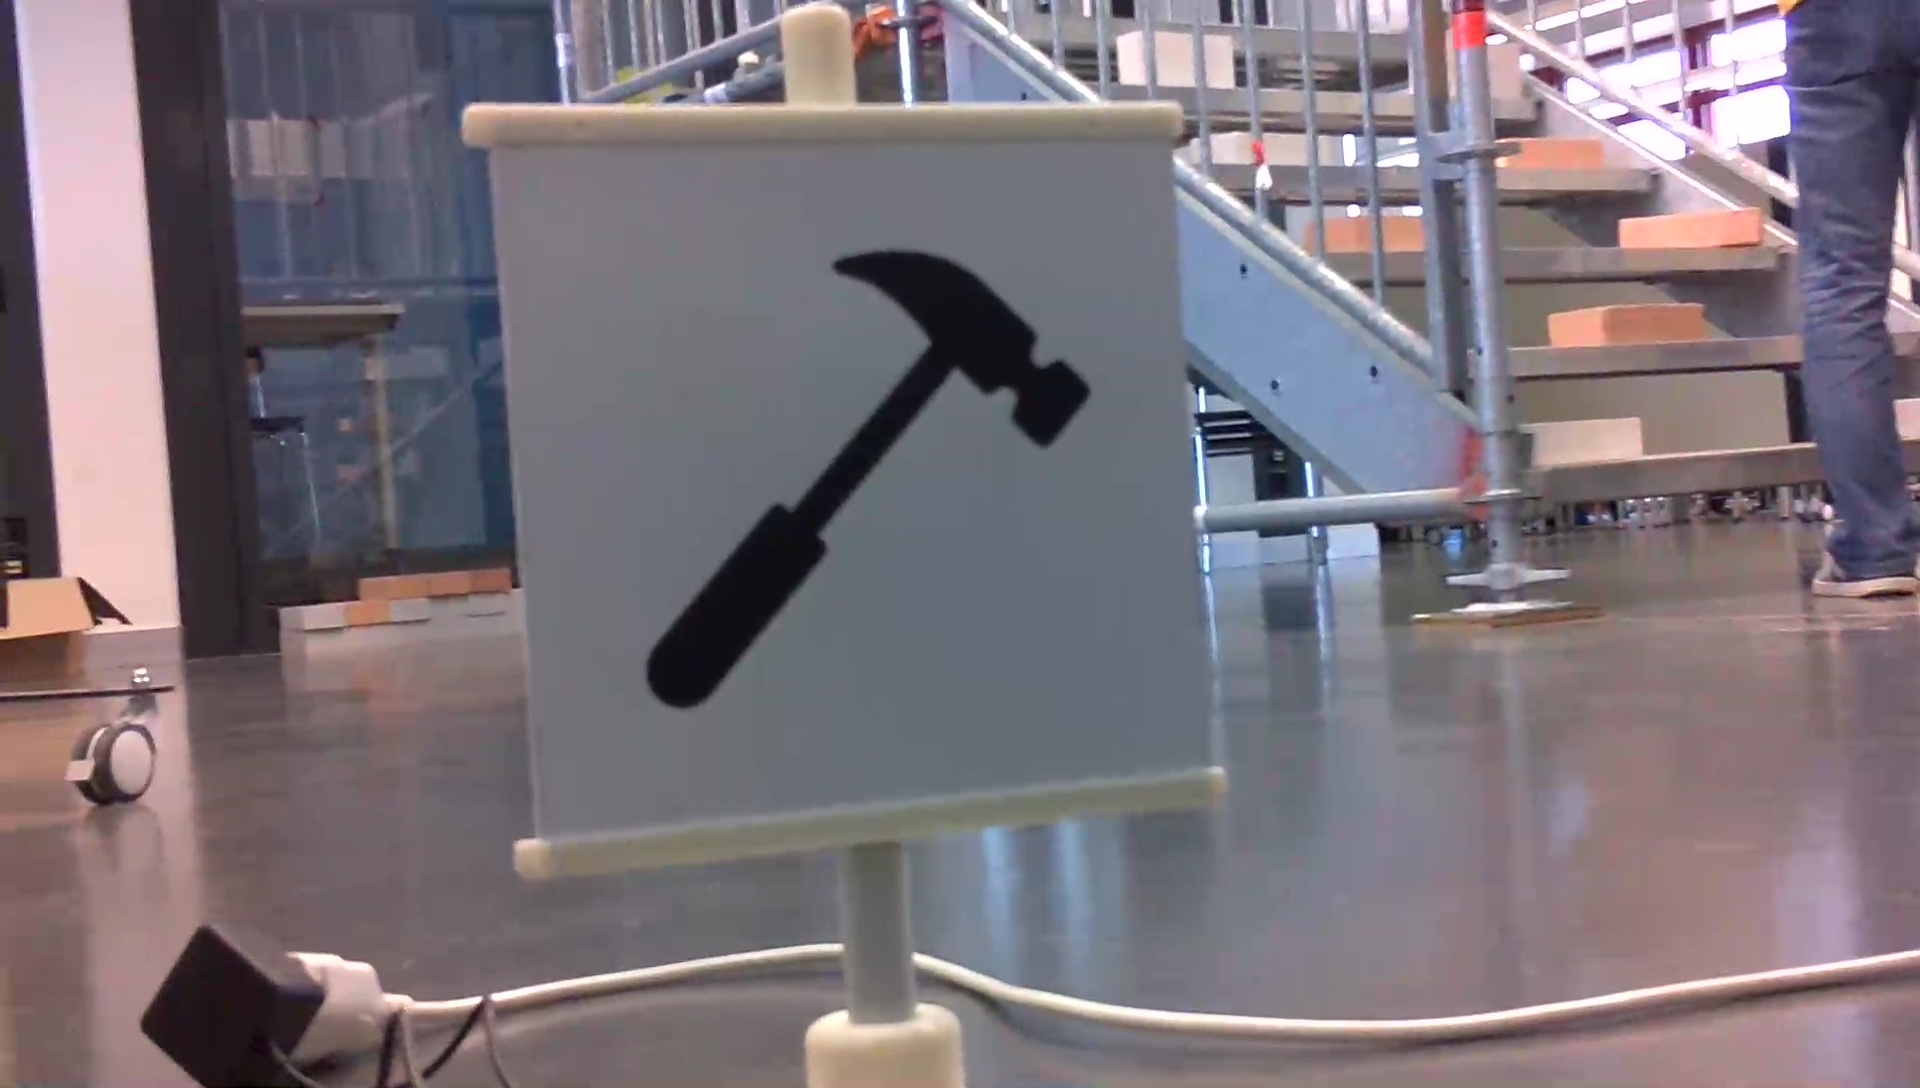brick: (1551, 306, 1702, 343), (1530, 415, 1640, 463), (1622, 210, 1764, 247), (1505, 137, 1604, 167), (1487, 44, 1516, 94)
hammer: (634, 243, 1098, 720)
